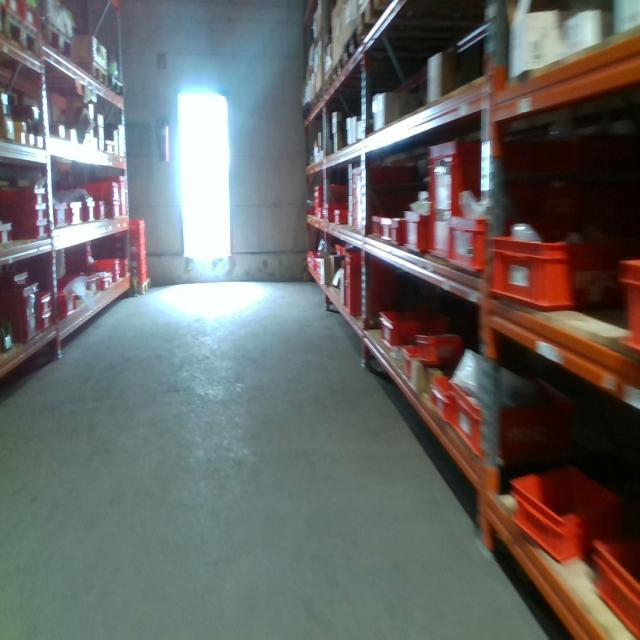pallet: (357, 3, 400, 45), (0, 9, 40, 54), (36, 18, 73, 58), (72, 60, 108, 85), (344, 27, 363, 74), (320, 68, 332, 105), (333, 55, 344, 91), (107, 76, 124, 96), (137, 279, 151, 296)
small_load_carrier: (421, 136, 538, 275), (501, 456, 617, 568), (487, 225, 617, 322), (448, 377, 567, 468), (581, 533, 639, 638), (438, 210, 485, 290), (373, 309, 442, 354), (342, 249, 383, 321), (0, 281, 40, 350), (413, 330, 474, 369), (617, 249, 639, 351), (431, 374, 462, 424), (56, 266, 101, 299), (399, 346, 440, 381), (399, 212, 425, 260), (346, 164, 412, 181), (105, 177, 126, 220), (2, 185, 49, 204), (346, 182, 411, 195), (3, 201, 46, 220), (79, 182, 119, 202), (346, 197, 403, 208), (15, 219, 47, 238), (36, 307, 53, 339), (82, 200, 98, 232), (348, 212, 373, 232), (92, 256, 119, 274), (54, 199, 69, 229), (389, 218, 403, 250), (60, 294, 79, 316), (126, 253, 148, 272), (1, 218, 13, 252), (68, 199, 83, 226), (130, 268, 150, 288), (126, 216, 145, 237), (40, 289, 55, 315), (379, 210, 390, 244), (124, 238, 148, 253), (90, 202, 105, 225), (104, 202, 119, 223), (372, 216, 382, 237), (101, 272, 112, 291), (333, 209, 344, 227), (113, 270, 122, 282)
